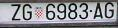-: (89, 10, 92, 12)
3: (79, 3, 88, 19)
6: (45, 4, 55, 20)
8: (68, 2, 77, 19)
9: (57, 3, 66, 20)
A: (93, 3, 103, 19)
G: (22, 4, 32, 20), (105, 3, 114, 18)
Z: (11, 4, 21, 21)
